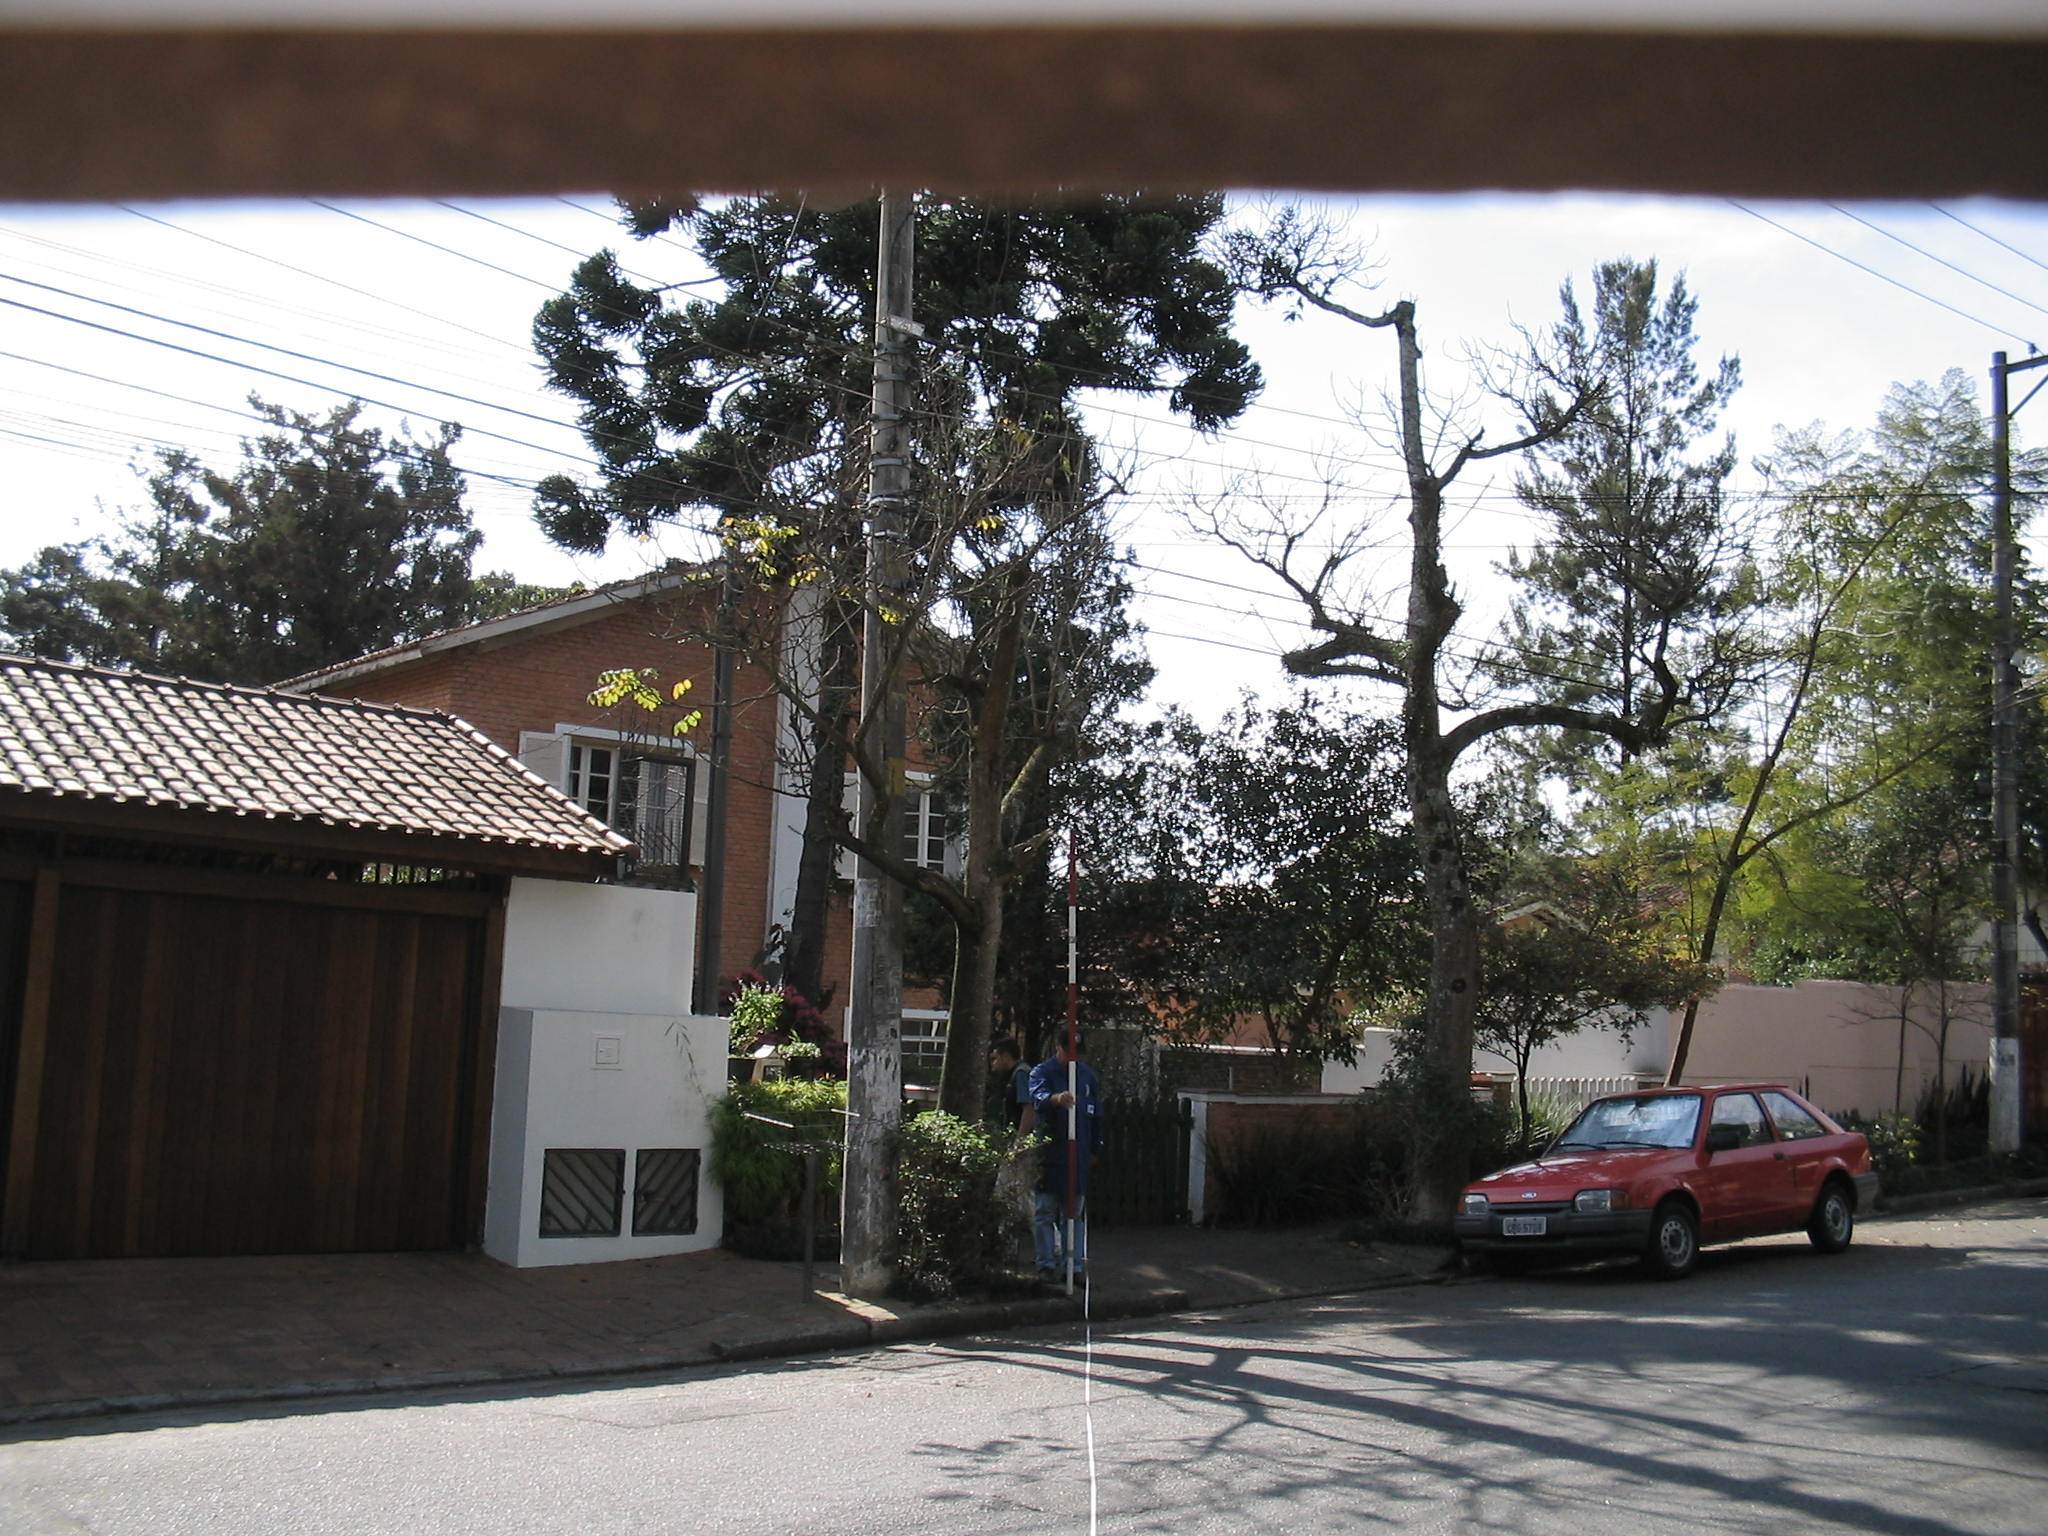stem: (1367, 771, 1516, 1228), (908, 921, 1026, 1291)
stick: (1040, 820, 1097, 1300)
tree: (1176, 197, 1761, 1228), (627, 416, 1155, 1292)
